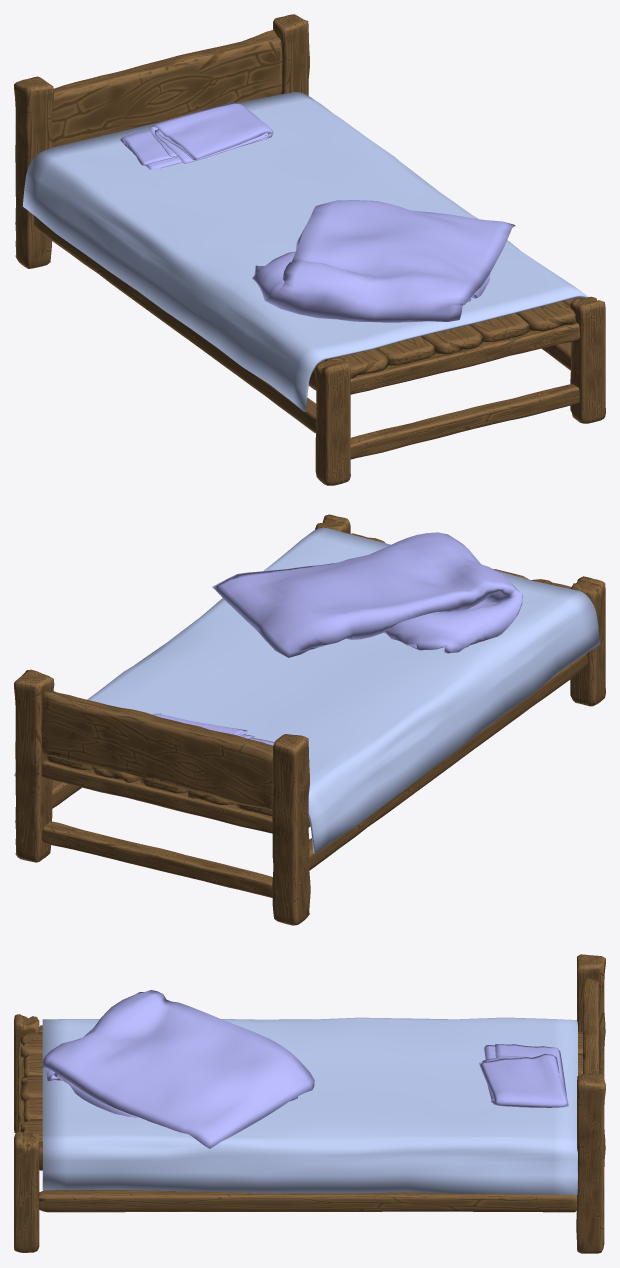
File: wooden_bed.glb
3 views of the same model, one above another, from view 1: azimuth 30°, elevation 25°; view 2: azimuth 150°, elevation 25°; view 3: azimuth 270°, elevation 25° (orthographic). The views are drawn at different scales.
Visible parts, largest first — view 1: Plane03, wood, Plane02, Plane01; view 2: Plane03, wood, Plane02, Plane01; view 3: Plane03, wood, Plane02, Plane01.
Boxes of the visible parts, box(x1,y1,x2,y2) form: Plane03: box(22, 92, 588, 411); wood: box(14, 14, 605, 485); Plane02: box(252, 200, 515, 322); Plane01: box(120, 102, 273, 169); Plane03: box(14, 527, 599, 853); wood: box(14, 514, 605, 925); Plane02: box(212, 532, 522, 657); Plane01: box(152, 713, 274, 745); Plane03: box(42, 1017, 577, 1194); wood: box(14, 954, 605, 1253); Plane02: box(41, 990, 314, 1148); Plane01: box(479, 1044, 568, 1107).
Size of the model in its own units: 1.49 by 0.8402 by 2.62.
5 materials, 3 textured.
